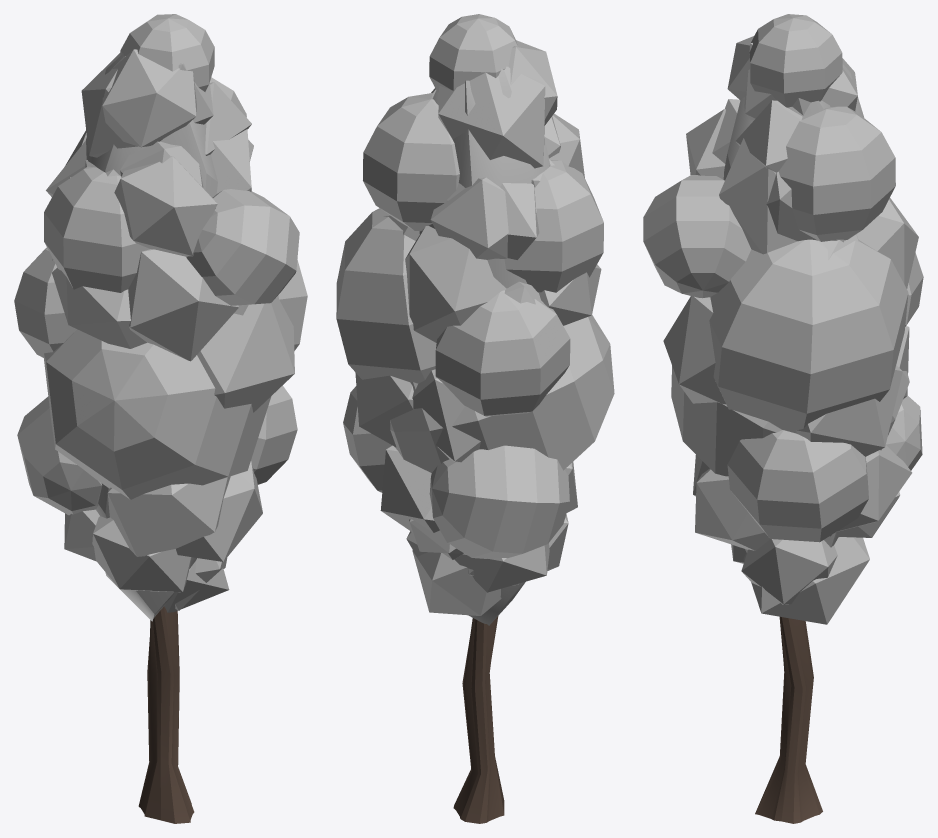
Rendered from Tree 3.fbx.
The picture shows the model from 3 angles, left to right: view 1: azimuth 30°, elevation 25°; view 2: azimuth 150°, elevation 25°; view 3: azimuth 270°, elevation 25°; orthographic projection.
Visible parts, largest first — view 1: Tree3:pSphere6, Tree3:pPlatonic4 (×2), Tree3:pSphere1, Tree3:pPlatonic19 (×2), Tree3:pSphere9, Tree3:pPlatonic12, Tree3:pPlatonic5, Tree3:pGear1, Tree3:pPlatonic17, Tree3:pSphere4, Tree3:pPlatonic3, Tree3:pSphere8 (+10 smaller); view 2: Tree3:pSphere4, Tree3:pSphere6, Tree3:pSphere3, Tree3:pSphere5, Tree3:pSphere7, Tree3:pPlatonic19 (×2), Tree3:pSphere9, Tree3:pPlatonic10, Tree3:pGear1, Tree3:pPlatonic9 (×2), Tree3:pSphere8, Tree3:pPlatonic1 (+10 smaller); view 3: Tree3:pSphere5, Tree3:pSphere2, Tree3:pSphere7, Tree3:pSphere1, Tree3:pPlatonic2 (×2), Tree3:pGear1, Tree3:pSphere8, Tree3:pPlatonic15 (×2), Tree3:pSphere6, Tree3:pPlatonic5, Tree3:pPlatonic9, Tree3:pPlatonic4 (+10 smaller).
Boxes of the visible parts, left/top/right/bottom form: Tree3:pSphere6: left=44, top=329, right=271, bottom=499; Tree3:pPlatonic4 (×2): left=107, top=461, right=262, bottom=561; Tree3:pSphere1: left=186, top=189, right=299, bottom=305; Tree3:pPlatonic19 (×2): left=81, top=49, right=213, bottom=157; Tree3:pSphere9: left=44, top=166, right=149, bottom=292; Tree3:pPlatonic12: left=128, top=249, right=238, bottom=361; Tree3:pPlatonic5: left=197, top=295, right=294, bottom=412; Tree3:pGear1: left=138, top=606, right=194, bottom=823; Tree3:pPlatonic17: left=114, top=156, right=217, bottom=256; Tree3:pSphere4: left=17, top=396, right=102, bottom=515; Tree3:pPlatonic3: left=92, top=516, right=191, bottom=592; Tree3:pSphere8: left=120, top=14, right=214, bottom=91; Tree3:pSphere4: left=429, top=445, right=569, bottom=558; Tree3:pSphere6: left=390, top=315, right=614, bottom=472; Tree3:pSphere3: left=435, top=290, right=570, bottom=416; Tree3:pSphere5: left=336, top=208, right=436, bottom=383; Tree3:pSphere7: left=363, top=93, right=459, bottom=230; Tree3:pPlatonic19 (×2): left=438, top=40, right=557, bottom=168; Tree3:pSphere9: left=504, top=160, right=603, bottom=292; Tree3:pPlatonic10: left=405, top=226, right=506, bottom=342; Tree3:pGear1: left=453, top=616, right=504, bottom=823; Tree3:pPlatonic9 (×2): left=355, top=369, right=480, bottom=462; Tree3:pSphere8: left=429, top=14, right=517, bottom=92; Tree3:pPlatonic1: left=452, top=69, right=550, bottom=625; Tree3:pSphere5: left=709, top=239, right=908, bottom=433; Tree3:pSphere2: left=727, top=430, right=868, bottom=542; Tree3:pSphere7: left=778, top=106, right=895, bottom=241; Tree3:pSphere1: left=643, top=175, right=751, bottom=298; Tree3:pPlatonic2 (×2): left=741, top=537, right=869, bottom=624; Tree3:pGear1: left=755, top=616, right=822, bottom=823; Tree3:pSphere8: left=749, top=14, right=842, bottom=107; Tree3:pPlatonic15 (×2): left=719, top=138, right=844, bottom=254; Tree3:pSphere6: left=671, top=365, right=909, bottom=476; Tree3:pPlatonic5: left=663, top=296, right=725, bottom=404; Tree3:pPlatonic9: left=796, top=365, right=902, bottom=456; Tree3:pPlatonic4: left=695, top=468, right=769, bottom=550.
Bounding box in the file's own units: 4.58 × 13.97 × 4.47.
